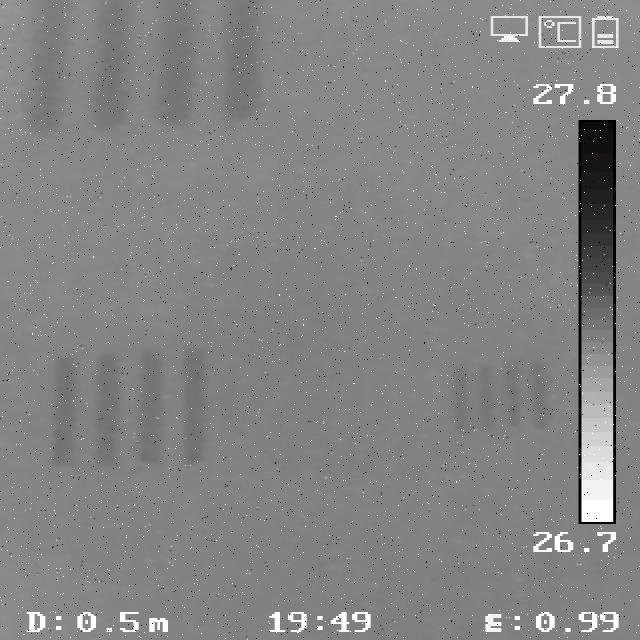threshold 4-bar target: (29, 4, 264, 125), (51, 359, 210, 469), (447, 359, 553, 432)
